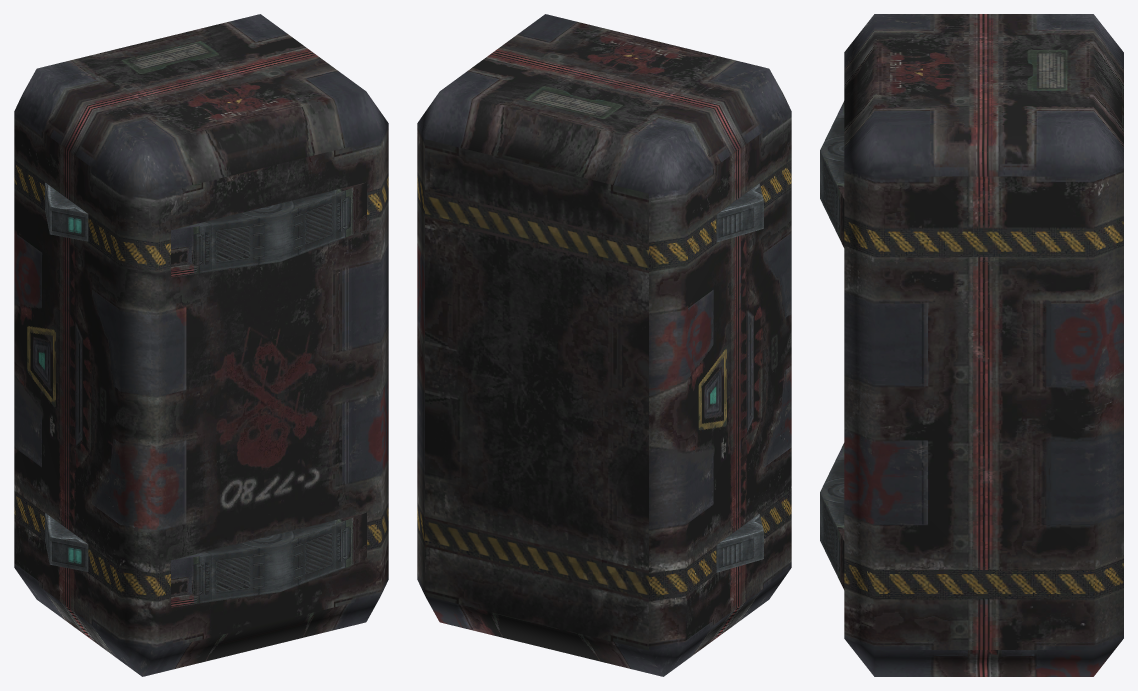
The model's file is t6_wpn_supply_drop_trap_LOD2.obj.
3 views of the same model, side by side, from view 1: azimuth 30°, elevation 25°; view 2: azimuth 150°, elevation 25°; view 3: azimuth 270°, elevation 25° (orthographic). The views are drawn at different scales.
Parts seen in each view (by area): view 1: mtl_t6_wpn_supply_drop_trap; view 2: mtl_t6_wpn_supply_drop_trap; view 3: mtl_t6_wpn_supply_drop_trap.
Boxes of the visible parts, x1=… form: mtl_t6_wpn_supply_drop_trap: x1=14, y1=14, x2=388, y2=676; mtl_t6_wpn_supply_drop_trap: x1=417, y1=14, x2=791, y2=676; mtl_t6_wpn_supply_drop_trap: x1=820, y1=14, x2=1123, y2=676.
Bounding box in the file's own units: 103 × 181 × 90.68.
